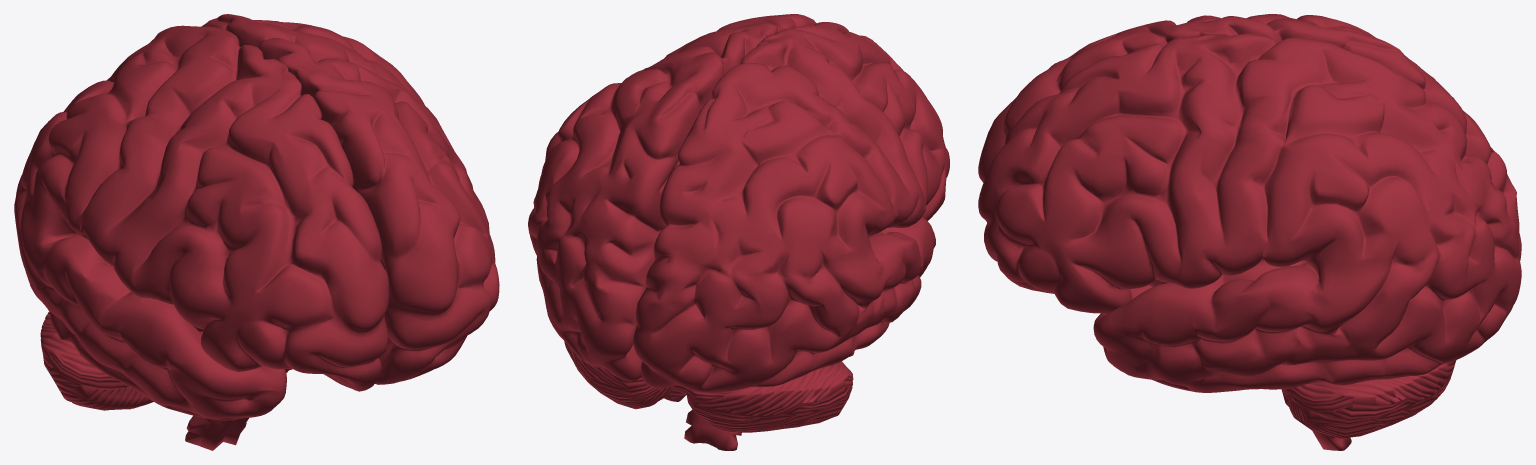
File: red brain.glb
The picture shows the model from 3 angles, left to right: view 1: azimuth 30°, elevation 25°; view 2: azimuth 150°, elevation 25°; view 3: azimuth 270°, elevation 25°; orthographic projection. The views are drawn at different scales.
Parts seen in each view (by area): view 1: Brain_Part_06.5, Brain_Part_04.3, Brain_Part_02.2, Brain_Part_05.4; view 2: Brain_Part_06.5, Brain_Part_04.3, Brain_Part_02.2, Brain_Part_05.4; view 3: Brain_Part_04.3, Brain_Part_06.5, Brain_Part_02.2, Brain_Part_05.4.
Boxes of the visible parts, x1,y1,x2,y2 form: Brain_Part_06.5: [14, 25, 388, 420]; Brain_Part_04.3: [201, 14, 499, 384]; Brain_Part_02.2: [40, 312, 292, 410]; Brain_Part_05.4: [185, 326, 289, 450]; Brain_Part_06.5: [633, 22, 949, 392]; Brain_Part_04.3: [528, 14, 816, 381]; Brain_Part_02.2: [564, 341, 853, 432]; Brain_Part_05.4: [684, 409, 741, 450]; Brain_Part_04.3: [978, 33, 1521, 392]; Brain_Part_06.5: [978, 14, 1521, 260]; Brain_Part_02.2: [1283, 360, 1456, 438]; Brain_Part_05.4: [1149, 259, 1351, 450].
Size of the model in its own units: 380 by 402 by 473.
